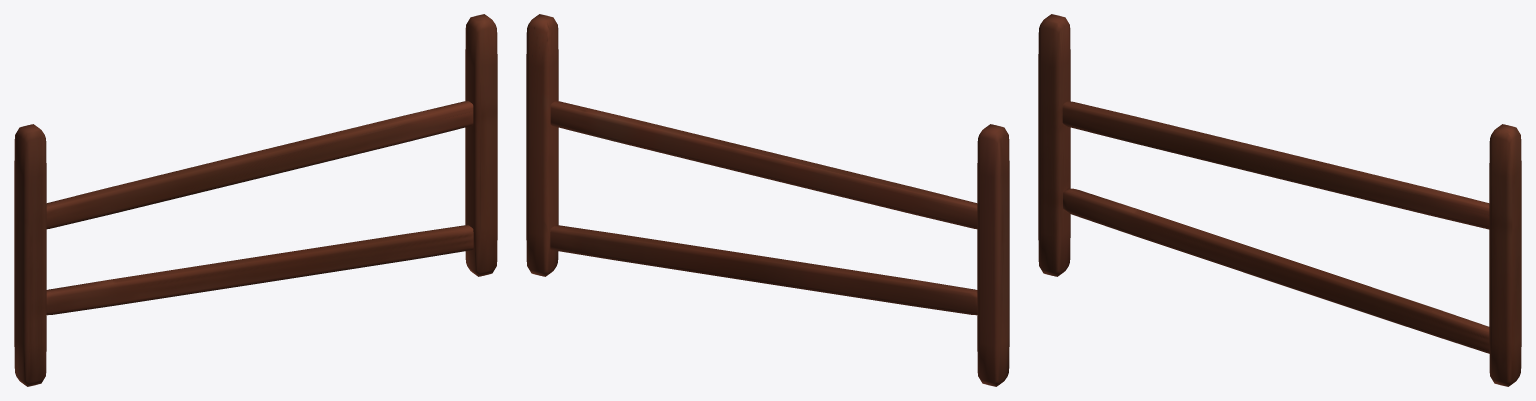
The model's file is FenceVariant01.glb.
The picture shows the model from 3 angles, left to right: view 1: azimuth 30°, elevation 25°; view 2: azimuth 150°, elevation 25°; view 3: azimuth 330°, elevation 25°; orthographic projection.
Visible parts, largest first — view 1: Fence; view 2: Fence; view 3: Fence.
Part boxes in pixels (x1,y1,x2,y2): Fence: (14, 14, 497, 386); Fence: (526, 14, 1009, 386); Fence: (1038, 14, 1521, 386).
Bounding box in the file's own units: 8.01 × 4.11 × 0.3802.
Materials: 1 (1 with a texture image).
